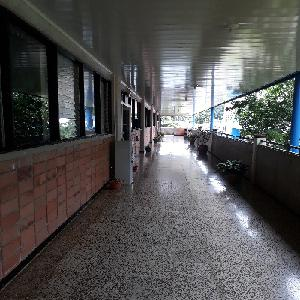Ball: (120, 137, 124, 141)
